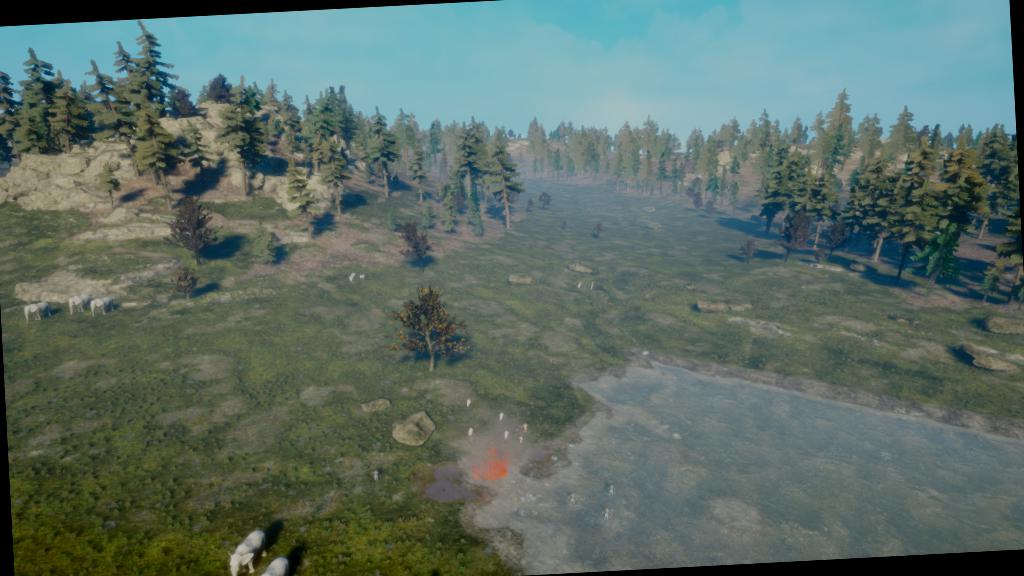Fire: (470, 448, 512, 484)
elephant: (220, 526, 276, 575), (245, 552, 300, 575), (20, 300, 53, 327), (65, 291, 95, 317), (90, 292, 117, 320)
human: (368, 465, 383, 488), (564, 490, 580, 508), (604, 482, 618, 500), (602, 506, 612, 524), (522, 422, 531, 434), (518, 434, 526, 446)
pig: (463, 424, 479, 441), (498, 427, 514, 442), (460, 396, 474, 410), (496, 410, 505, 422)
smoke: (458, 428, 528, 496)
